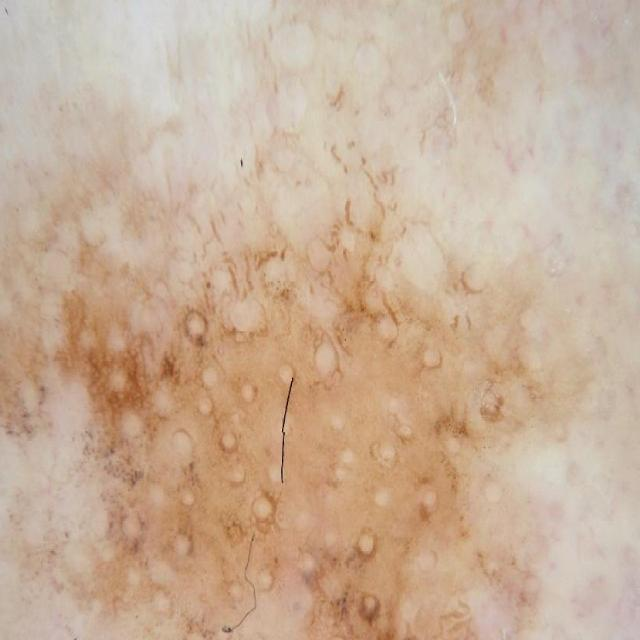Melanoma: (15, 149, 578, 640)
